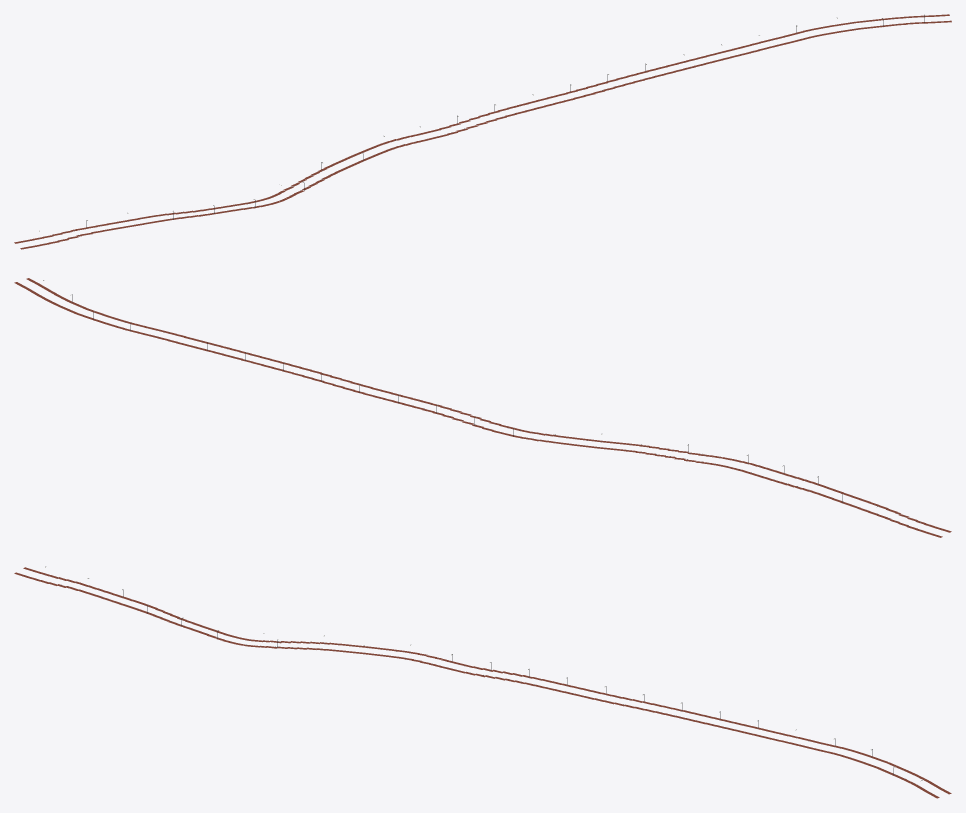
The model's file is sn_bollards0.glb.
3 views of the same model, one above another, from view 1: azimuth 30°, elevation 25°; view 2: azimuth 150°, elevation 25°; view 3: azimuth 330°, elevation 25° (orthographic). The views are drawn at different scales.
Parts seen in each view (by area): view 1: sn_bollards0_lod0; view 2: sn_bollards0_lod0; view 3: sn_bollards0_lod0.
Part boxes in pixels (x1=…): sn_bollards0_lod0: x1=14, y1=14, x2=951, y2=249; sn_bollards0_lod0: x1=14, y1=278, x2=951, y2=537; sn_bollards0_lod0: x1=14, y1=566, x2=951, y2=798.
Size of what is drawn, in the model's own units: 737 by 17.19 by 46.9.
